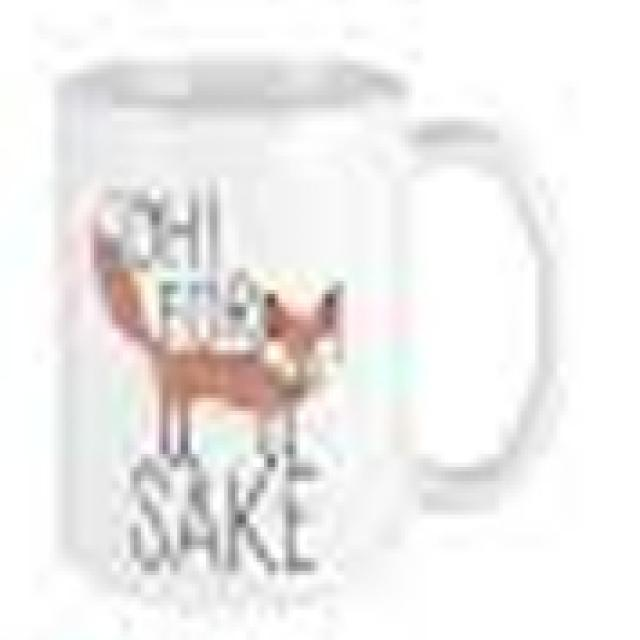taza: (58, 42, 576, 594)
